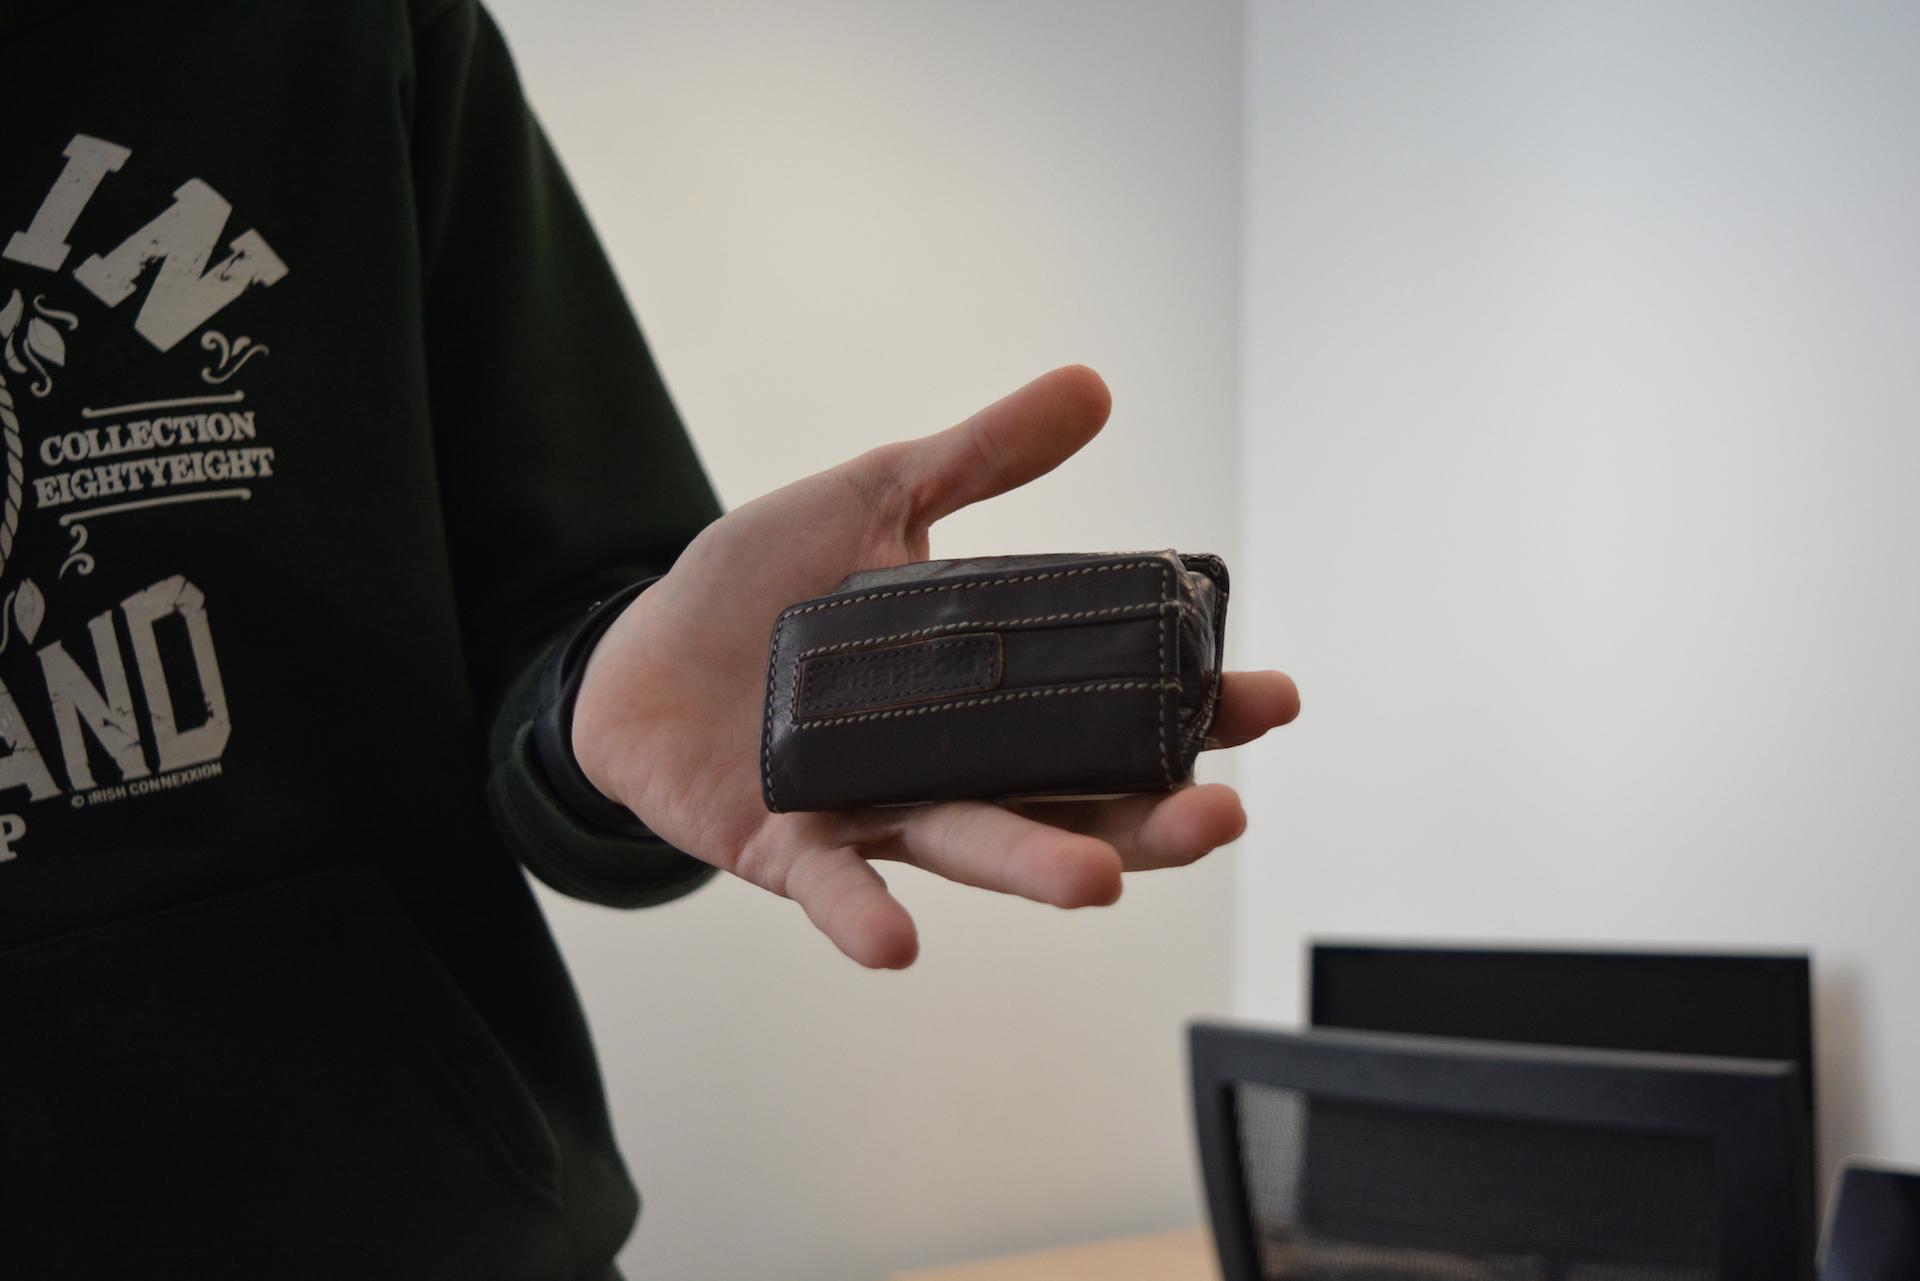monedero: (758, 548, 1229, 815)
